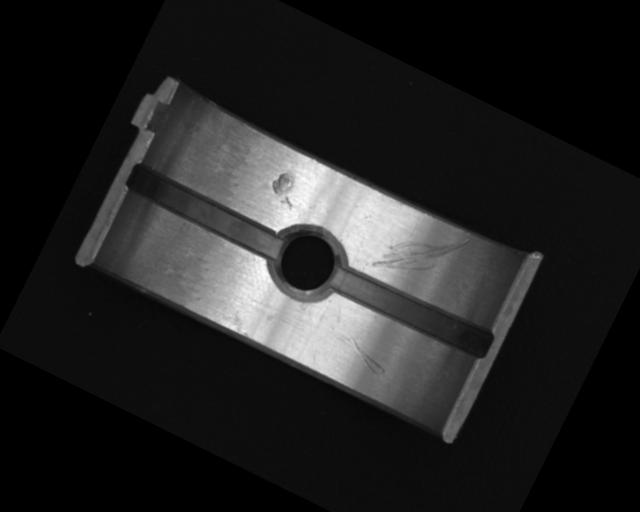bruise: (264, 169, 304, 210)
gap: (326, 258, 495, 363), (123, 162, 288, 264)
hole: (260, 217, 350, 309)
nick: (370, 204, 470, 299), (335, 331, 393, 378)
